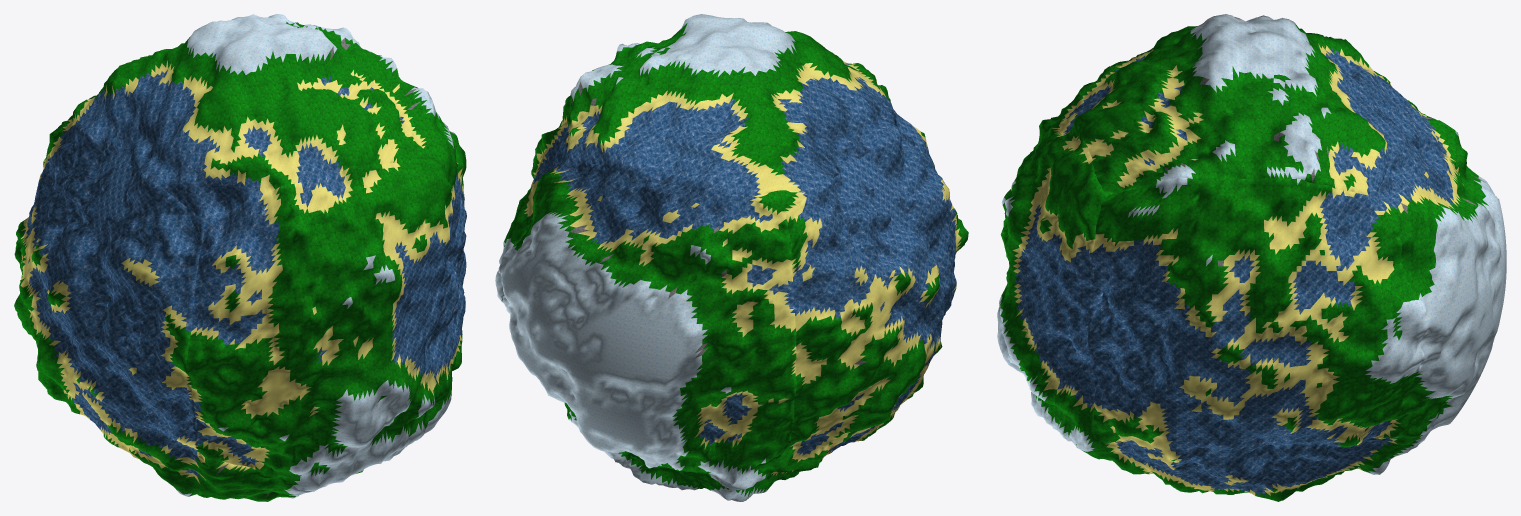
The model's file is planet_lod1.glb.
The picture shows the model from 3 angles, left to right: view 1: azimuth 30°, elevation 25°; view 2: azimuth 150°, elevation 25°; view 3: azimuth 270°, elevation 25°; orthographic projection. The views are drawn at different scales.
Parts seen in each view (by area): view 1: tile_3_0_0_0, tile_4_0_0_0, tile_1_0_0_0, tile_5_0_0_0, tile_0_0_0_0; view 2: tile_2_0_0_0, tile_4_0_0_0, tile_1_0_0_0, tile_5_0_0_0, tile_0_0_0_0, tile_3_0_0_0; view 3: tile_0_0_0_0, tile_4_0_0_0, tile_2_0_0_0, tile_3_0_0_0, tile_5_0_0_0.
Boxes of the visible parts, left/top/right/bottom form: tile_3_0_0_0: left=187, top=157, right=458, bottom=491; tile_4_0_0_0: left=71, top=14, right=433, bottom=220; tile_1_0_0_0: left=14, top=122, right=205, bottom=462; tile_5_0_0_0: left=112, top=444, right=363, bottom=501; tile_0_0_0_0: left=399, top=77, right=466, bottom=377; tile_2_0_0_0: left=500, top=161, right=796, bottom=484; tile_4_0_0_0: left=567, top=14, right=899, bottom=213; tile_1_0_0_0: left=785, top=129, right=968, bottom=447; tile_5_0_0_0: left=614, top=432, right=874, bottom=501; tile_0_0_0_0: left=495, top=94, right=571, bottom=307; tile_3_0_0_0: left=878, top=85, right=963, bottom=257; tile_0_0_0_0: left=1088, top=177, right=1427, bottom=478; tile_4_0_0_0: left=1075, top=14, right=1402, bottom=197; tile_2_0_0_0: left=1376, top=83, right=1506, bottom=445; tile_3_0_0_0: left=997, top=90, right=1107, bottom=451; tile_5_0_0_0: left=1077, top=438, right=1419, bottom=501.
Size of what is drawn, in the model's own units: 615 by 657 by 661.
5 materials, 5 textured.
